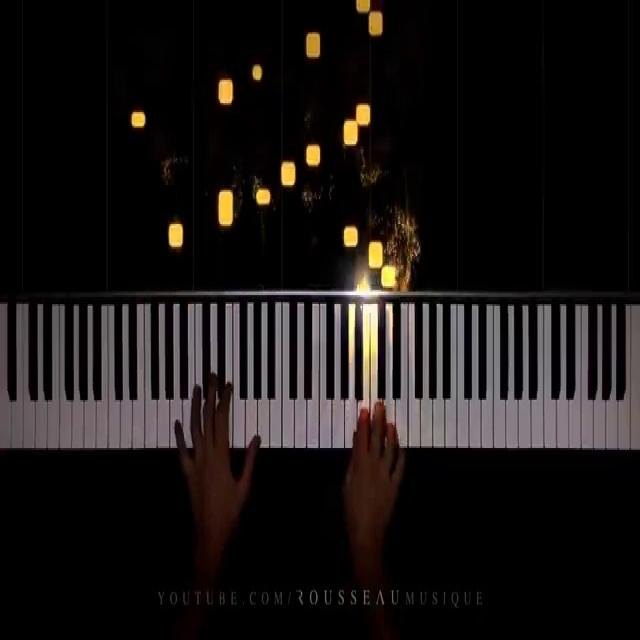Piano: (4, 300, 638, 452)
